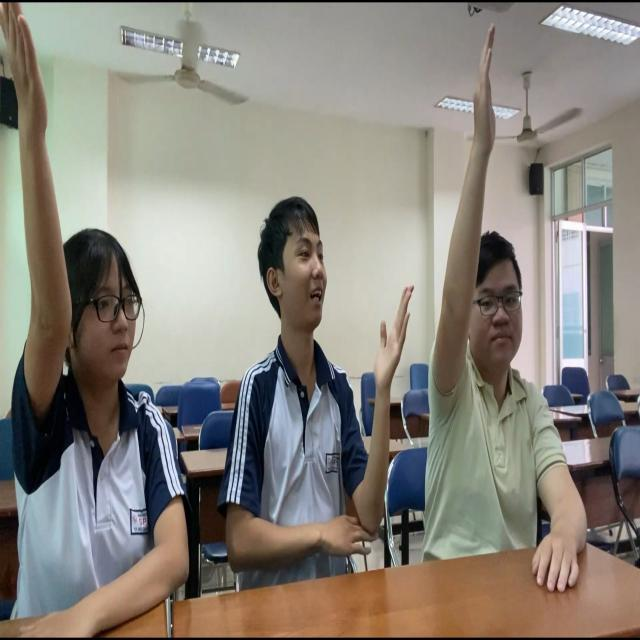raise_hand: (1, 1, 187, 640), (441, 1, 598, 577), (234, 175, 419, 566)
